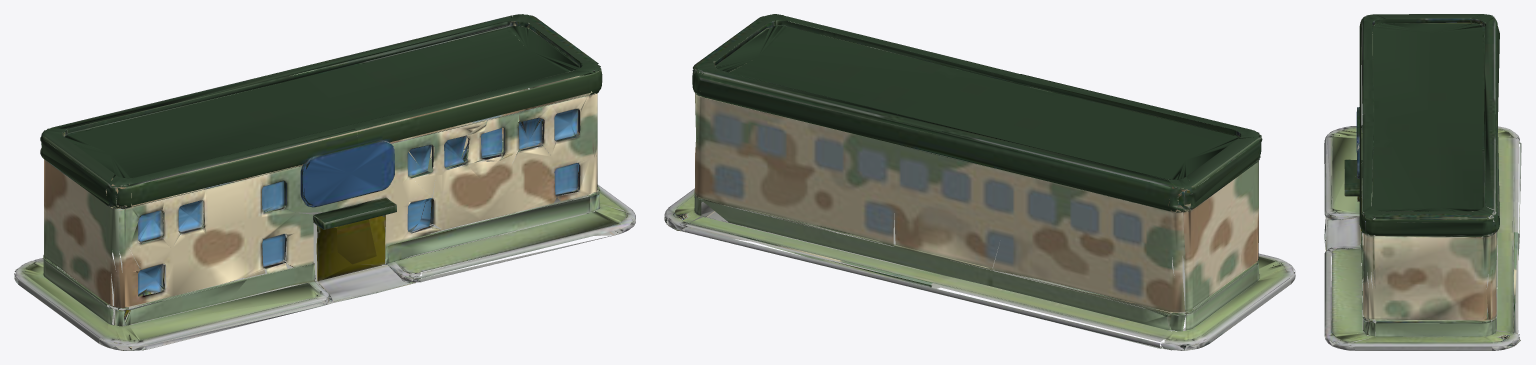
Rendered from grenade-barracks-fractured-low.glb.
The picture shows the model from 3 angles, left to right: view 1: azimuth 30°, elevation 25°; view 2: azimuth 150°, elevation 25°; view 3: azimuth 270°, elevation 25°; orthographic projection. The views are drawn at different scales.
Parts seen in each view (by area): view 1: chunk_023, chunk_011, chunk_002, chunk_020, chunk_008, chunk_014, chunk_026, chunk_017, chunk_001, chunk_021, chunk_009, chunk_004 (+10 smaller); view 2: chunk_021, chunk_018, chunk_009, chunk_023, chunk_011, chunk_012, chunk_006, chunk_000, chunk_001, chunk_024, chunk_003, chunk_004 (+4 smaller); view 3: chunk_023, chunk_011, chunk_028, chunk_025, chunk_021, chunk_009, chunk_026, chunk_024, chunk_018, chunk_014, chunk_020, chunk_002 (+9 smaller).
Part boxes in pixels (x1,y1,x2,y2): chunk_023: [314, 27, 593, 196]; chunk_011: [110, 82, 357, 237]; chunk_002: [99, 235, 320, 350]; chunk_020: [299, 161, 614, 281]; chunk_008: [111, 213, 328, 340]; chunk_014: [296, 184, 422, 303]; chunk_026: [423, 136, 635, 274]; chunk_017: [287, 140, 420, 212]; chunk_001: [18, 202, 109, 343]; chunk_021: [279, 15, 512, 104]; chunk_009: [52, 72, 284, 153]; chunk_004: [42, 135, 130, 269]; chunk_021: [700, 70, 979, 187]; chunk_018: [684, 158, 941, 291]; chunk_009: [940, 126, 1185, 235]; chunk_023: [730, 15, 1019, 109]; chunk_011: [954, 74, 1250, 159]; chunk_012: [887, 144, 1018, 288]; chunk_006: [929, 211, 1163, 348]; chunk_000: [996, 236, 1215, 350]; chunk_001: [1192, 227, 1291, 343]; chunk_024: [664, 137, 824, 245]; chunk_003: [1086, 160, 1224, 276]; chunk_004: [1186, 135, 1260, 250]; chunk_023: [1359, 113, 1483, 216]; chunk_011: [1357, 19, 1482, 139]; chunk_028: [1375, 207, 1482, 290]; chunk_025: [1354, 272, 1519, 350]; chunk_021: [1434, 113, 1499, 223]; chunk_009: [1434, 19, 1499, 120]; chunk_026: [1324, 253, 1375, 350]; chunk_024: [1426, 269, 1520, 350]; chunk_018: [1496, 232, 1519, 332]; chunk_014: [1324, 159, 1375, 256]; chunk_020: [1324, 234, 1497, 336]; chunk_002: [1324, 125, 1362, 214].
Bounding box in the file's own units: 0.9497 × 0.2534 × 0.3589.
1 material, 1 textured.
